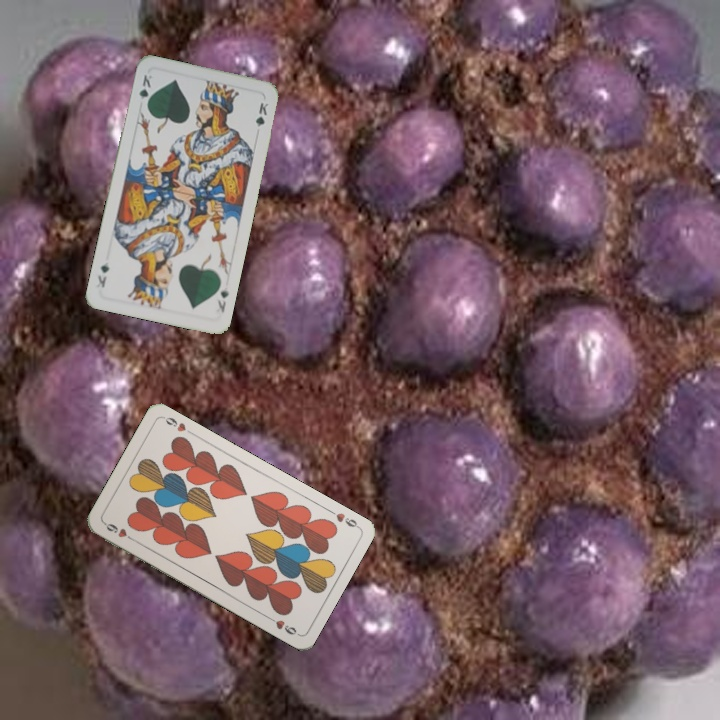GK: (135, 70, 155, 110), (213, 286, 231, 315)
H9: (100, 518, 138, 544), (324, 505, 361, 531)
